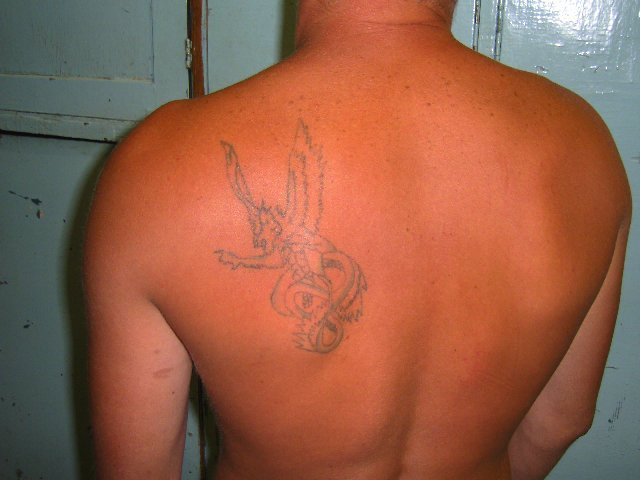tatu6_drakon: (199, 138, 441, 360)
